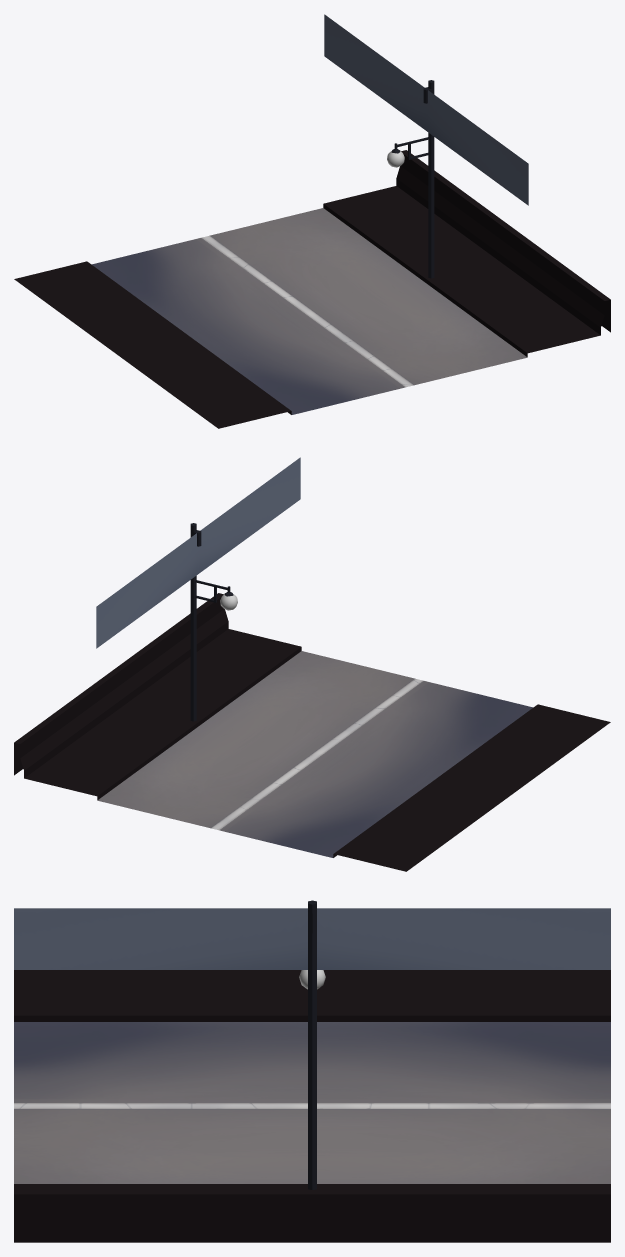
The picture shows the model from 3 angles, top to bottom: view 1: azimuth 30°, elevation 25°; view 2: azimuth 150°, elevation 25°; view 3: azimuth 270°, elevation 25°; orthographic projection. The views are drawn at different scales.
Parts seen in each view (by area): view 1: Road, Plane, TelephonePole; view 2: Road, Plane, TelephonePole; view 3: Road, Plane, TelephonePole.
Boxes of the visible parts, x1=… form: Road: x1=14, y1=150, x2=610, y2=428; Plane: x1=324, y1=14, x2=528, y2=205; TelephonePole: x1=387, y1=80, x2=434, y2=278; Road: x1=14, y1=593, x2=610, y2=871; Plane: x1=96, y1=457, x2=300, y2=648; TelephonePole: x1=190, y1=523, x2=237, y2=721; Road: x1=14, y1=970, x2=610, y2=1242; Plane: x1=14, y1=908, x2=610, y2=969; TelephonePole: x1=299, y1=900, x2=325, y2=1189.
Size of the model in its own units: 3.32 by 1.63 by 3.
